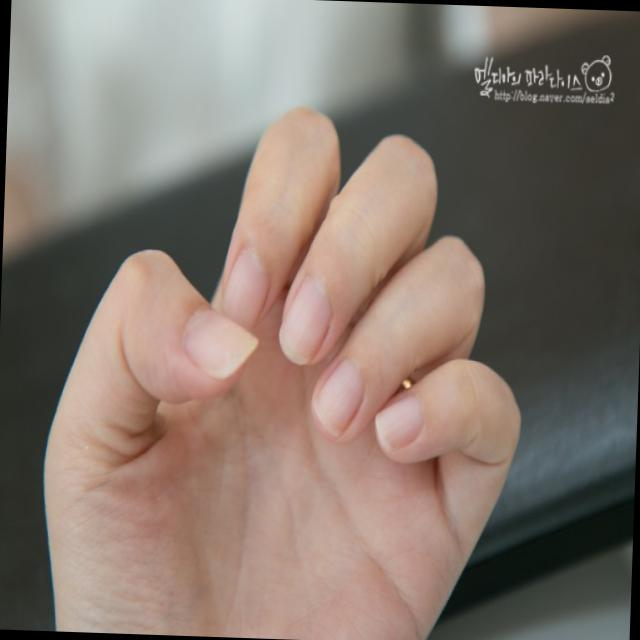Nail: (183, 309, 258, 379), (279, 279, 330, 363), (312, 361, 364, 438), (223, 250, 269, 327), (375, 393, 423, 454)
